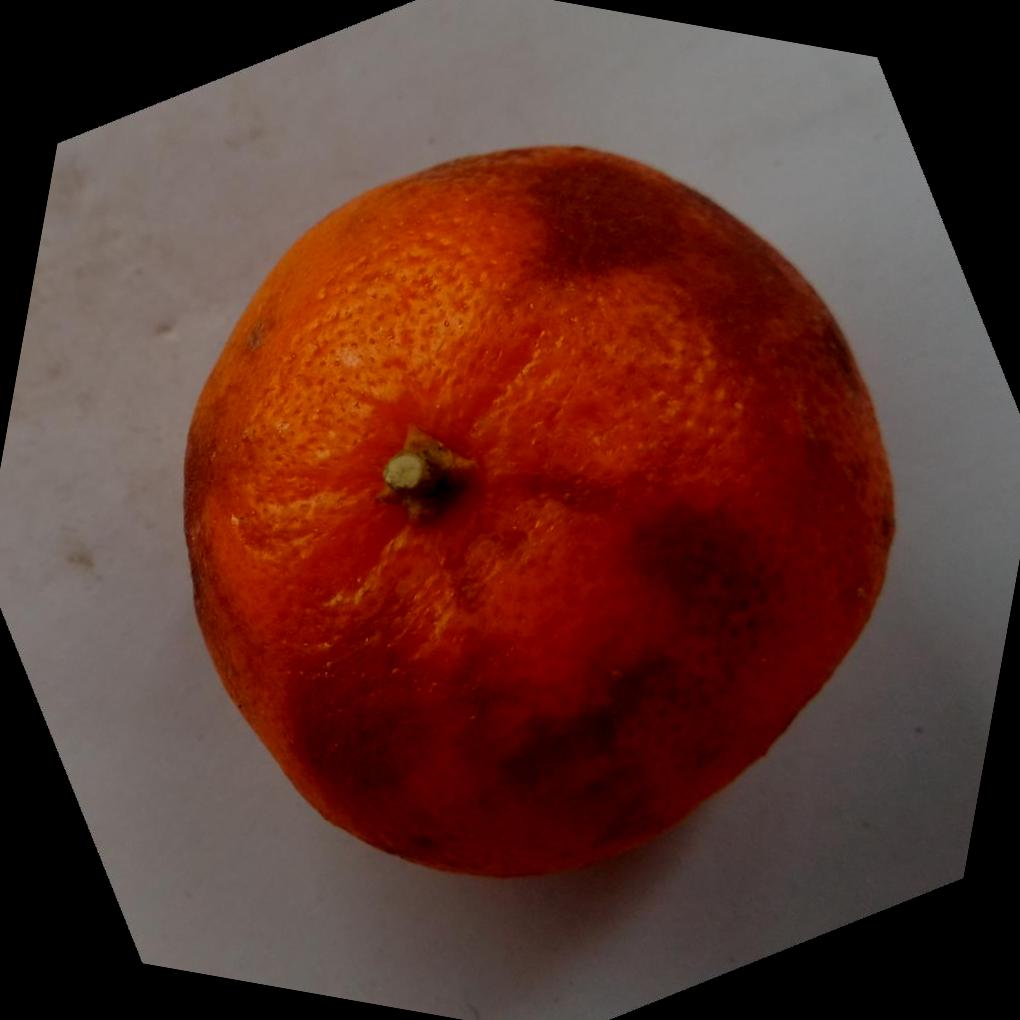FreshOrange: (179, 145, 896, 883)
